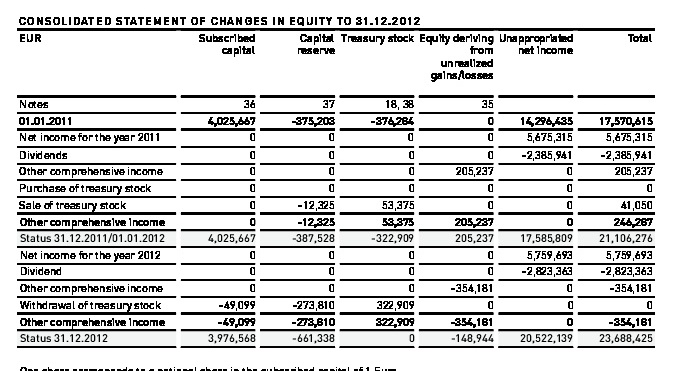table: (0, 0, 676, 371)
